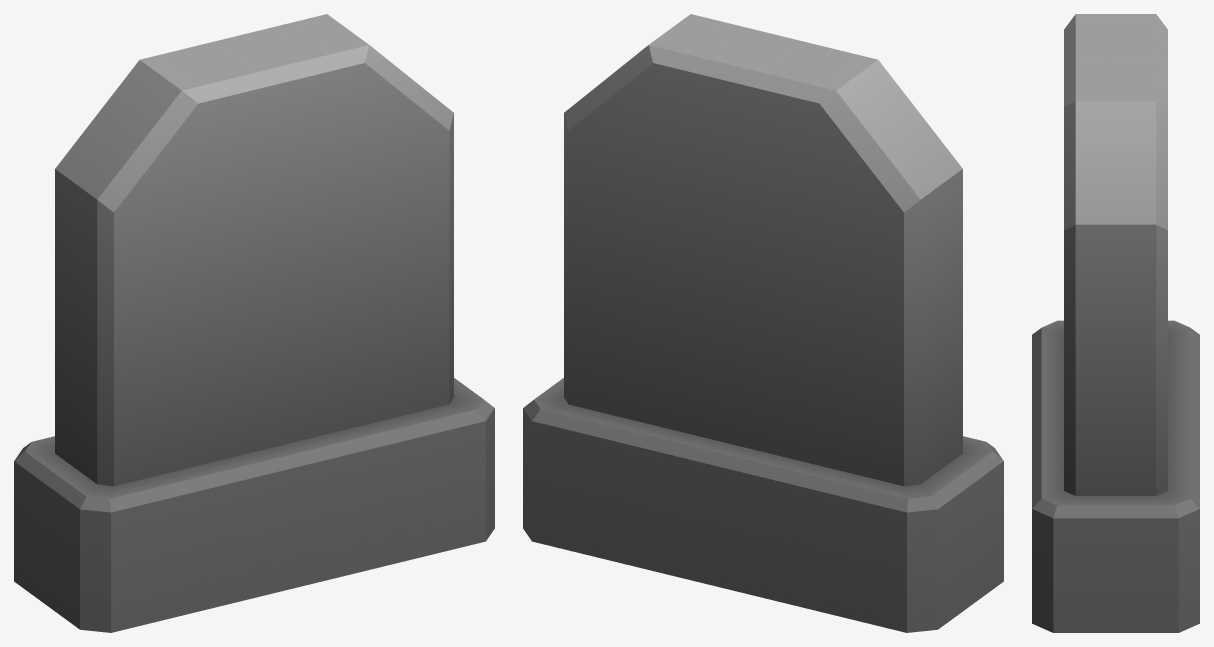
File: TombstoneBlank3.fbx
3 renders of one model, left to right at view 1: azimuth 30°, elevation 25°; view 2: azimuth 150°, elevation 25°; view 3: azimuth 270°, elevation 25°, orthographic. The views are drawn at different scales.
Parts seen in each view (by area): view 1: TombstoneBlank3; view 2: TombstoneBlank3; view 3: TombstoneBlank3.
Part boxes in pixels (x1,y1,x2,y2): TombstoneBlank3: (14,14,494,632); TombstoneBlank3: (523,14,1003,632); TombstoneBlank3: (1032,14,1199,632).
Size of the model in its own units: 1.16 by 1.35 by 0.4277.
Materials: 1 (1 with a texture image).
